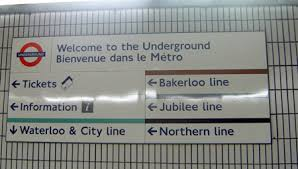London Underground: (14, 40, 49, 69)
